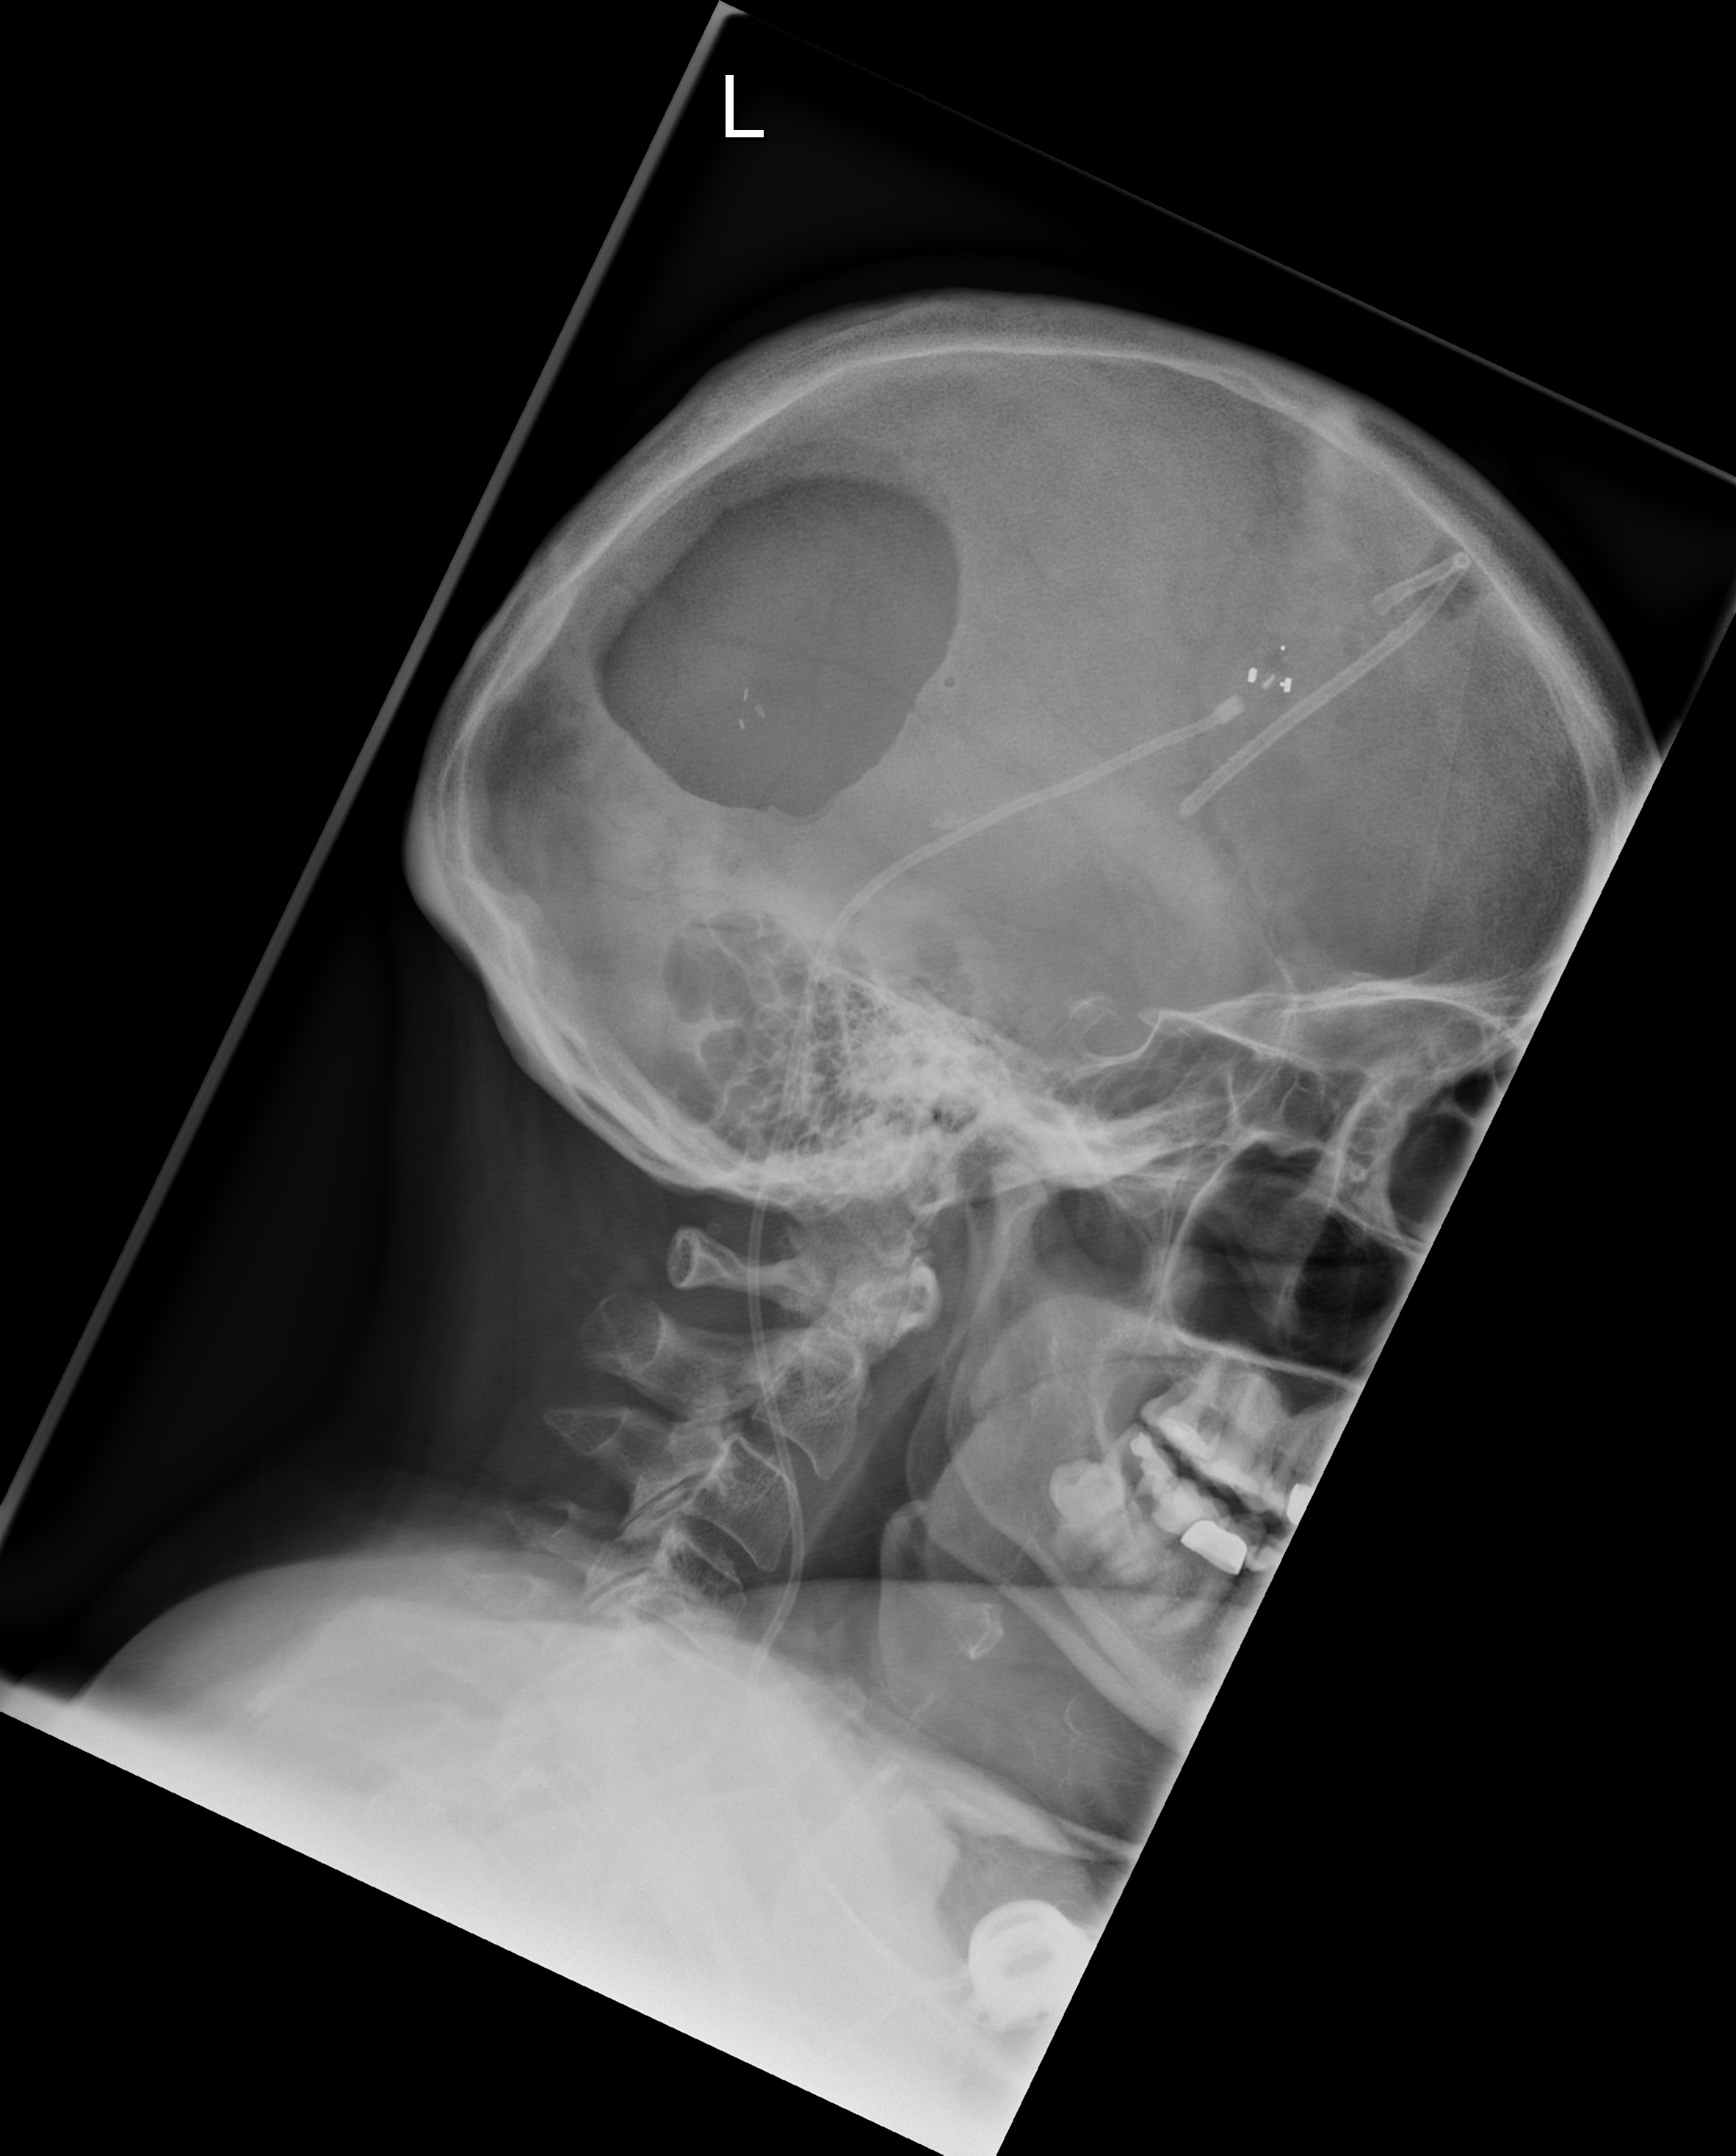Codman Certas: (1231, 631, 1313, 717)
